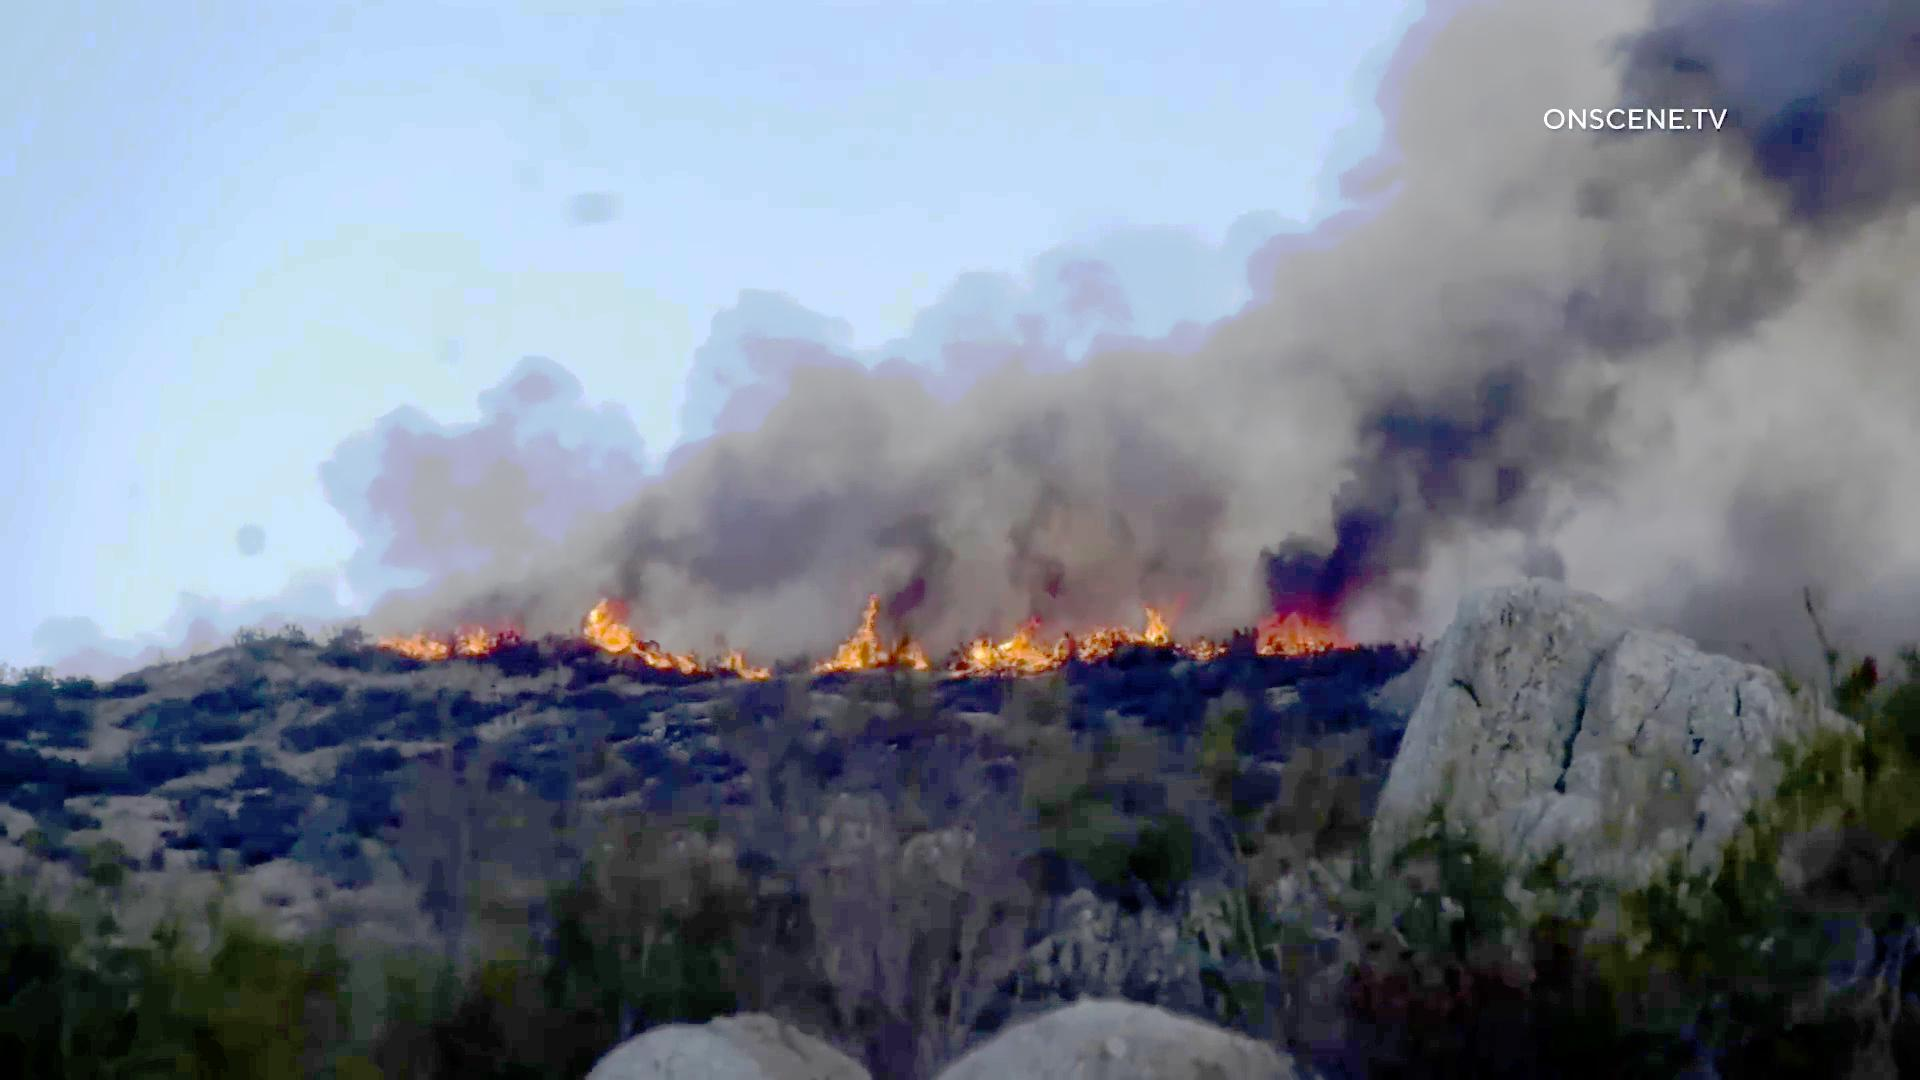fire: (585, 593, 877, 691)
